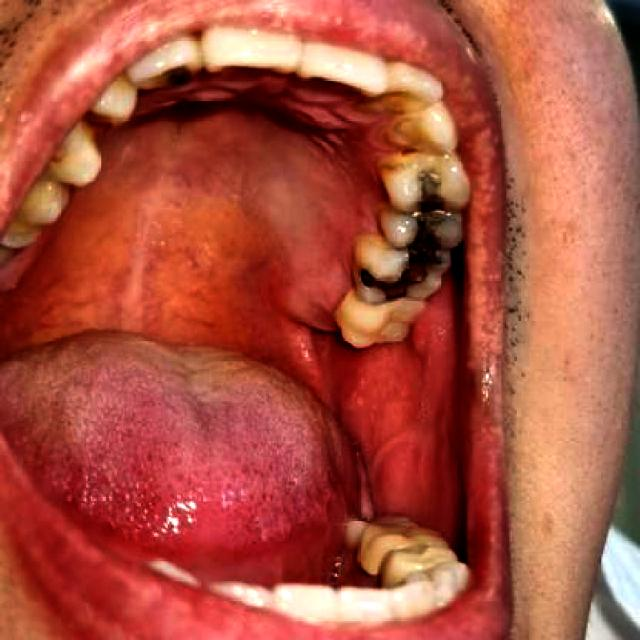Plaque: (389, 137, 427, 164)
